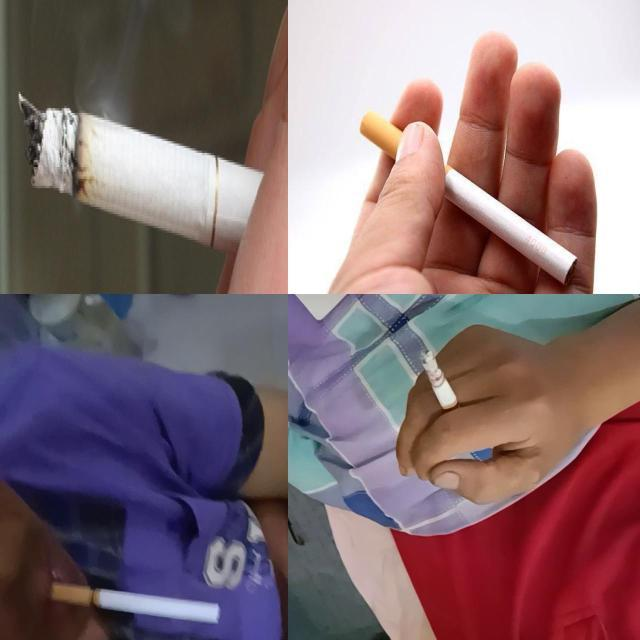smoking: (358, 108, 578, 286), (15, 85, 249, 252), (49, 583, 223, 625), (421, 350, 462, 428)
